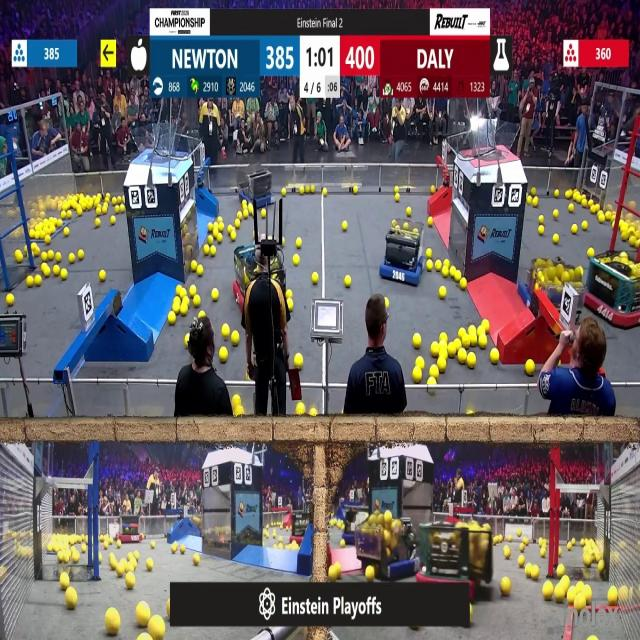ball_airborne: (457, 480, 464, 490)
ball_ground: (106, 612, 120, 637), (136, 603, 150, 627), (150, 618, 164, 639), (66, 589, 78, 610), (607, 588, 617, 606), (500, 580, 510, 597), (542, 584, 552, 601), (555, 588, 565, 604), (126, 573, 136, 588), (328, 565, 338, 580), (438, 356, 448, 371), (574, 593, 584, 608), (364, 566, 374, 580), (60, 574, 70, 588), (293, 353, 302, 368), (458, 349, 467, 364), (491, 349, 499, 364), (232, 332, 240, 347), (219, 348, 227, 363), (467, 353, 475, 368), (414, 368, 423, 381), (526, 360, 534, 374), (169, 312, 177, 326), (430, 343, 438, 357), (530, 565, 538, 579), (566, 591, 574, 605), (586, 588, 593, 604), (41, 266, 50, 278), (233, 394, 242, 406), (235, 408, 244, 419), (212, 288, 219, 302), (414, 336, 421, 350), (221, 324, 229, 336), (479, 337, 487, 349), (296, 405, 304, 417), (556, 564, 564, 576), (172, 302, 180, 314), (448, 344, 456, 356), (462, 336, 470, 348), (115, 566, 124, 576), (468, 336, 476, 347), (6, 293, 13, 305), (146, 558, 153, 570), (440, 286, 447, 298), (312, 273, 319, 285), (180, 305, 187, 317), (54, 267, 61, 279), (427, 378, 436, 387), (72, 553, 80, 563), (429, 366, 437, 376), (561, 576, 569, 586), (100, 271, 107, 282), (345, 276, 352, 287), (192, 295, 199, 306), (483, 320, 490, 331), (192, 554, 199, 565), (15, 251, 22, 262), (598, 212, 605, 223), (518, 556, 525, 567), (130, 561, 137, 572), (198, 267, 205, 278), (585, 556, 592, 567), (28, 276, 34, 288), (110, 558, 116, 570), (417, 358, 424, 368), (35, 276, 42, 286), (459, 327, 466, 337), (434, 262, 441, 272), (56, 252, 63, 262), (61, 270, 68, 280), (188, 286, 195, 296), (629, 237, 636, 247), (460, 279, 466, 290), (286, 301, 292, 312), (535, 198, 541, 209), (292, 254, 298, 265), (189, 262, 195, 273), (59, 552, 65, 563), (467, 325, 475, 333), (259, 209, 266, 218), (310, 409, 317, 418), (444, 269, 451, 278), (41, 252, 48, 261), (182, 295, 189, 304), (571, 223, 577, 233), (538, 224, 544, 234), (427, 262, 433, 272), (589, 248, 595, 258), (554, 235, 560, 245), (78, 250, 84, 260), (176, 286, 182, 296), (204, 245, 210, 255), (583, 220, 589, 230), (69, 253, 75, 263), (342, 220, 348, 230), (454, 271, 460, 281), (540, 549, 546, 559), (598, 562, 604, 572), (575, 268, 581, 278), (441, 334, 448, 342), (564, 190, 571, 198), (290, 542, 297, 550), (504, 548, 509, 559), (538, 215, 544, 224), (172, 543, 178, 552), (64, 229, 70, 238), (236, 219, 242, 228), (66, 210, 72, 219), (456, 340, 462, 349), (47, 251, 53, 260), (76, 207, 82, 216), (591, 205, 597, 214), (211, 246, 216, 256), (217, 234, 222, 244), (232, 232, 237, 242), (427, 248, 432, 258), (208, 222, 213, 232), (407, 208, 413, 216), (286, 290, 292, 298), (322, 188, 328, 196), (110, 216, 116, 224), (115, 540, 121, 548), (218, 222, 224, 230), (341, 539, 347, 547), (102, 206, 108, 214), (139, 634, 147, 640), (34, 248, 40, 256), (445, 259, 451, 267), (310, 185, 316, 193), (554, 209, 559, 218), (96, 218, 101, 227), (208, 236, 213, 245), (174, 295, 180, 302), (298, 187, 304, 194), (216, 216, 222, 223), (200, 311, 205, 319), (180, 544, 185, 552), (241, 211, 246, 219), (555, 189, 560, 197), (114, 206, 119, 214), (227, 224, 232, 232), (99, 554, 103, 564), (353, 186, 358, 194), (112, 198, 117, 206), (507, 534, 512, 542), (242, 201, 247, 209), (567, 542, 572, 550), (635, 238, 639, 248), (428, 217, 432, 226), (296, 239, 300, 248), (569, 204, 573, 213), (184, 336, 188, 345), (385, 297, 389, 306), (278, 542, 284, 548), (97, 208, 102, 215), (135, 553, 140, 560), (430, 186, 435, 193), (394, 185, 399, 192), (524, 537, 529, 544), (557, 359, 562, 366), (395, 192, 399, 200), (532, 187, 536, 195), (82, 543, 86, 551), (129, 553, 133, 561), (106, 192, 110, 200), (279, 536, 284, 542), (269, 236, 274, 242), (151, 540, 155, 547), (282, 188, 286, 195), (120, 206, 124, 213), (104, 541, 108, 548), (521, 543, 525, 550), (184, 289, 188, 296), (516, 532, 520, 539), (273, 531, 277, 537), (591, 636, 597, 640), (282, 239, 285, 246), (274, 542, 277, 548)
goal: (465, 122, 521, 160), (130, 129, 188, 161)
robot_blue: (356, 512, 418, 580), (522, 258, 585, 318), (380, 220, 422, 285), (238, 164, 274, 208)
robot_red: (416, 523, 492, 598), (586, 250, 639, 327), (230, 248, 278, 314), (116, 514, 144, 542)
